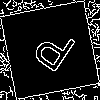P: (25, 25, 78, 82)
